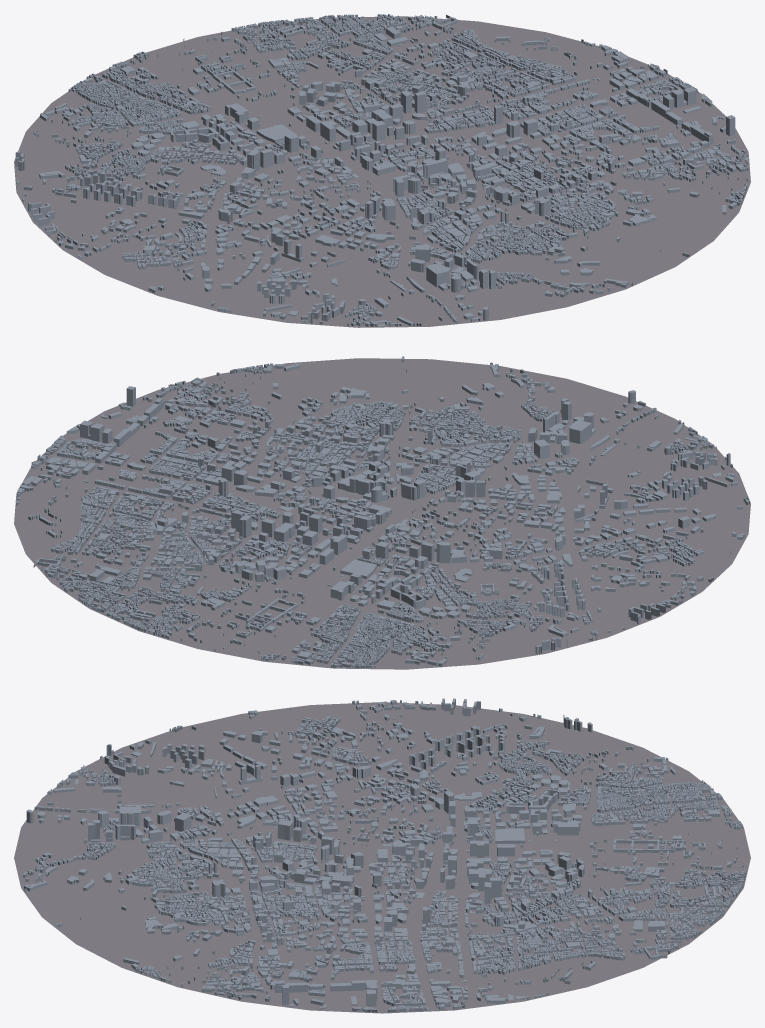
File: out_maps.fbx
3 views of the same model, one above another, from view 1: azimuth 30°, elevation 25°; view 2: azimuth 150°, elevation 25°; view 3: azimuth 270°, elevation 25° (orthographic).
Visible parts, largest first — view 1: Areas:building, Circle; view 2: Areas:building, Circle; view 3: Circle, Areas:building.
Part boxes in pixels (<box>): Areas:building: <box>15,14,749,326</box>; Circle: <box>14,16,750,327</box>; Areas:building: <box>16,356,749,668</box>; Circle: <box>14,358,750,669</box>; Circle: <box>14,702,750,1013</box>; Areas:building: <box>23,698,748,1012</box>.
Size of the model in its own units: 72739 by 1954 by 72739.
